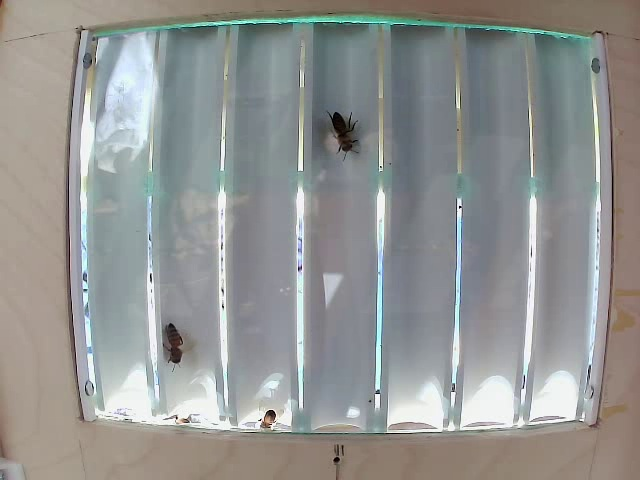bee: (150, 318, 204, 373), (318, 96, 361, 154)
